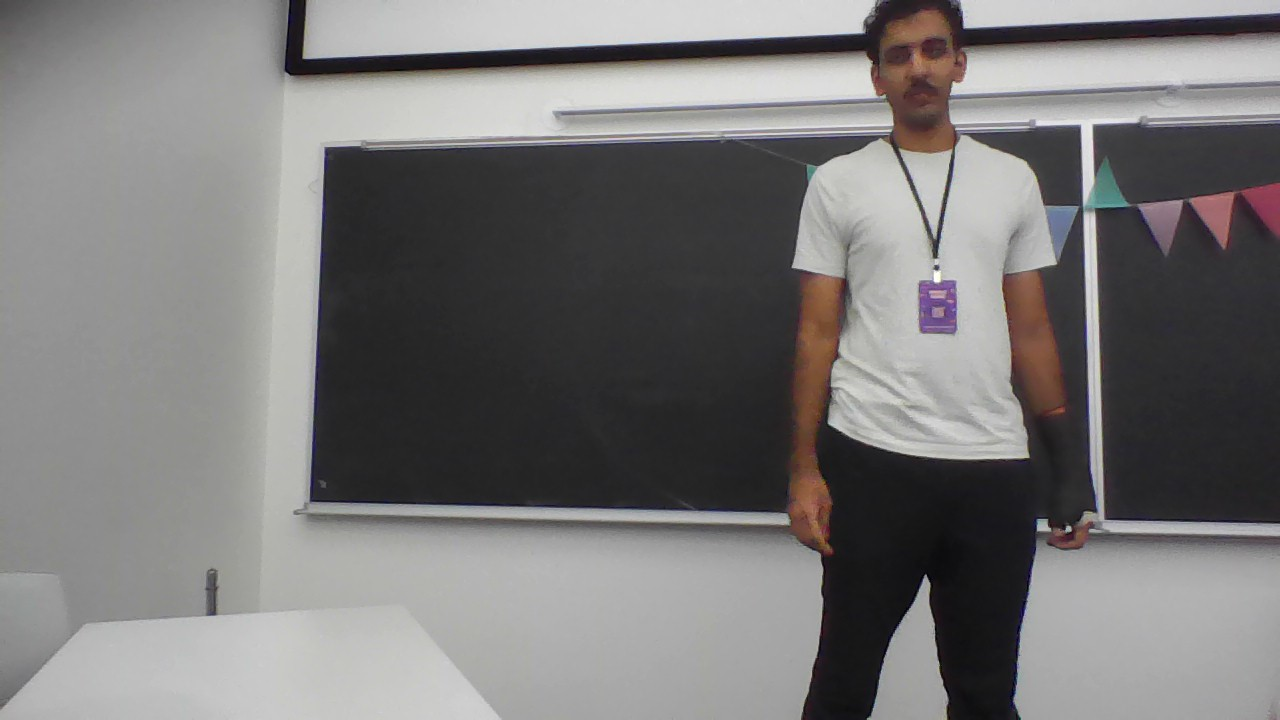height_frame: (755, 2, 1122, 720)
shoulder_frame: (812, 174, 1038, 207)
waist_frame: (826, 435, 1040, 485), (841, 330, 1013, 368)
